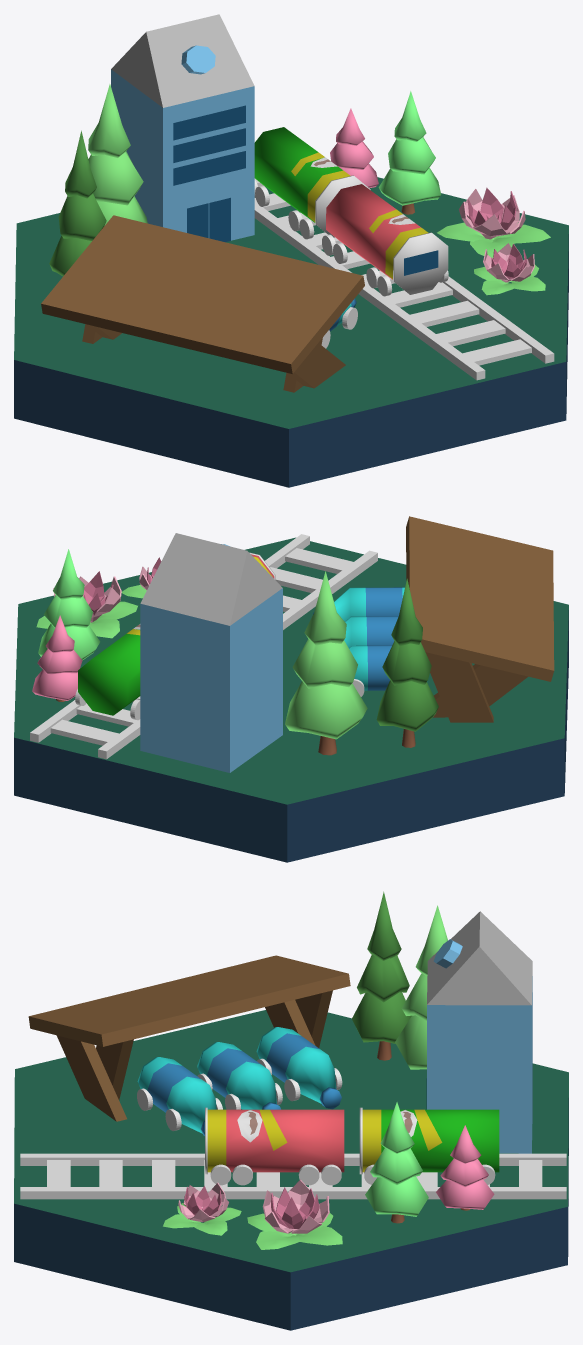
Rendered from Macro - Transportation Hub lvl 2 WM3.fbx.
The picture shows the model from 3 angles, top to bottom: view 1: azimuth 30°, elevation 25°; view 2: azimuth 150°, elevation 25°; view 3: azimuth 270°, elevation 25°; orthographic projection.
Parts seen in each view (by area): view 1: Cylinder.013, table.001, milkbox1.001, chips_001.002, chips_001.001, Tree_Spruce_tiny_01.008, Tree_Spruce_tiny_01.002, Tree_Spruce_tiny_01.007, Cube.137, Tree_Spruce_tiny_01.004, Plane.013, Cube.136 (+15 smaller); view 2: Cylinder.013, milkbox1.001, table.001, Tree_Spruce_tiny_01.008, Tree_Spruce_tiny_01.007, chips_001.001, Tree_Spruce_tiny_01.002, Tree_Spruce_tiny_01.004, Cube.137, coke3.003, coke3.004, coke3.005 (+8 smaller); view 3: Cylinder.013, milkbox1.001, table.001, chips_001.002, chips_001.001, Tree_Spruce_tiny_01.007, Cube.136, Tree_Spruce_tiny_01.002, coke3.005, coke3.004, coke3.003, Cube.137 (+12 smaller).
Part boxes in pixels (x1=…): Cylinder.013: x1=14, y1=177, x2=568, y2=487; table.001: x1=41, y1=215, x2=364, y2=392; milkbox1.001: x1=111, y1=14, x2=254, y2=240; chips_001.002: x1=326, y1=184, x2=448, y2=294; chips_001.001: x1=254, y1=127, x2=370, y2=237; Tree_Spruce_tiny_01.008: x1=88, y1=84, x2=147, y2=225; Tree_Spruce_tiny_01.002: x1=378, y1=91, x2=441, y2=214; Tree_Spruce_tiny_01.007: x1=49, y1=130, x2=106, y2=276; Cube.137: x1=254, y1=201, x2=485, y2=380; Tree_Spruce_tiny_01.004: x1=330, y1=108, x2=378, y2=188; Plane.013: x1=437, y1=222, x2=550, y2=257; Cube.136: x1=443, y1=276, x2=554, y2=363; Cylinder.013: x1=14, y1=537, x2=568, y2=862; milkbox1.001: x1=140, y1=533, x2=282, y2=772; table.001: x1=406, y1=516, x2=554, y2=722; Tree_Spruce_tiny_01.008: x1=285, y1=571, x2=367, y2=755; Tree_Spruce_tiny_01.007: x1=376, y1=578, x2=438, y2=747; chips_001.001: x1=78, y1=624, x2=140, y2=715; Tree_Spruce_tiny_01.002: x1=38, y1=549, x2=100, y2=660; Tree_Spruce_tiny_01.004: x1=32, y1=615, x2=82, y2=701; Cube.137: x1=98, y1=550, x2=377, y2=759; coke3.003: x1=313, y1=587, x2=404, y2=621; coke3.004: x1=344, y1=616, x2=398, y2=647; coke3.005: x1=349, y1=645, x2=427, y2=690; Cylinder.013: x1=14, y1=1010, x2=568, y2=1330; milkbox1.001: x1=427, y1=911, x2=532, y2=1153; table.001: x1=28, y1=955, x2=350, y2=1121; chips_001.002: x1=205, y1=1107, x2=344, y2=1174; chips_001.001: x1=359, y1=1107, x2=499, y2=1174; Tree_Spruce_tiny_01.007: x1=352, y1=891, x2=411, y2=1060; Cube.136: x1=20, y1=1187, x2=566, y2=1199; Tree_Spruce_tiny_01.002: x1=365, y1=1102, x2=428, y2=1223; coke3.005: x1=256, y1=1027, x2=341, y2=1109; coke3.004: x1=197, y1=1042, x2=280, y2=1109; coke3.003: x1=137, y1=1057, x2=216, y2=1135; Cube.137: x1=20, y1=1153, x2=566, y2=1165.
Size of the model in its own units: 197 by 89.35 by 172.
